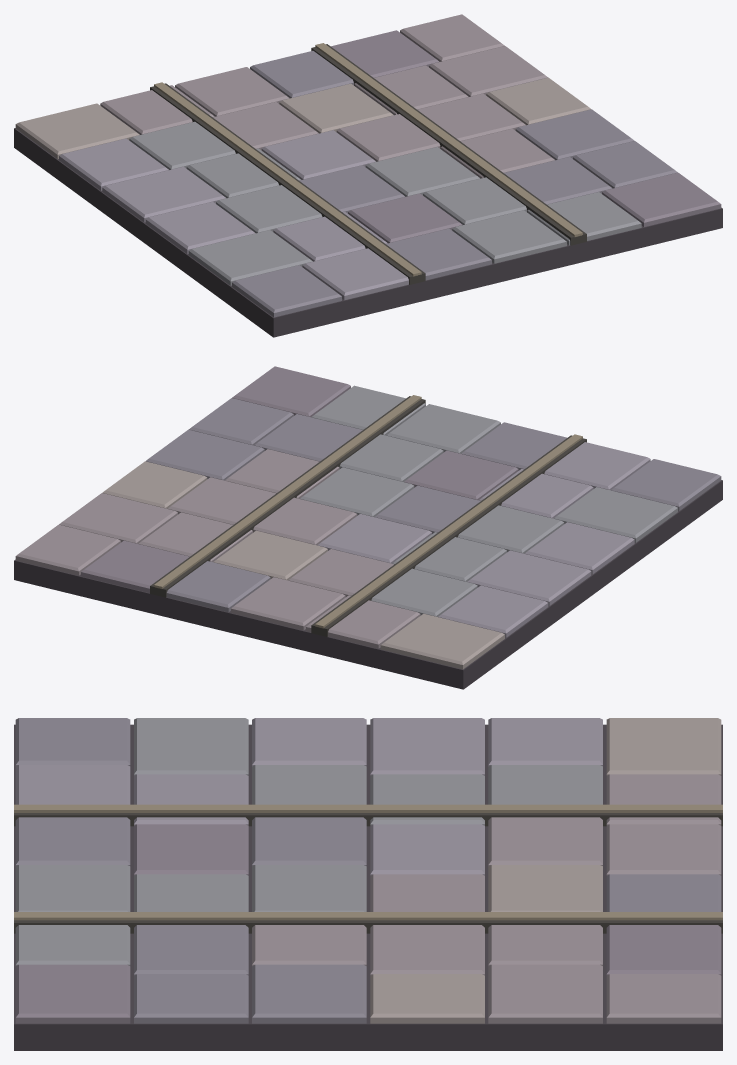
The model's file is 07b-tram-road.fbx.
3 views of the same model, one above another, from view 1: azimuth 30°, elevation 25°; view 2: azimuth 150°, elevation 25°; view 3: azimuth 270°, elevation 25° (orthographic). The views are drawn at different scales.
Visible parts, largest first — view 1: 07b-tram-road; view 2: 07b-tram-road; view 3: 07b-tram-road.
Part boxes in pixels (x1=…): 07b-tram-road: x1=14, y1=14, x2=722, y2=337; 07b-tram-road: x1=14, y1=366, x2=722, y2=689; 07b-tram-road: x1=14, y1=718, x2=722, y2=1050.
Bounding box in the file's own units: 400 × 24.9 × 400.
